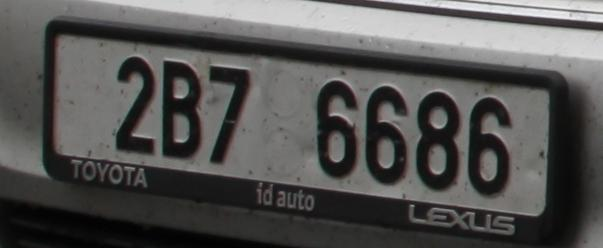2: (117, 56, 155, 153)
6: (367, 85, 409, 183), (470, 97, 509, 197), (317, 79, 356, 177)
7: (209, 66, 250, 166)
8: (417, 92, 460, 189)
B: (162, 61, 200, 157)
